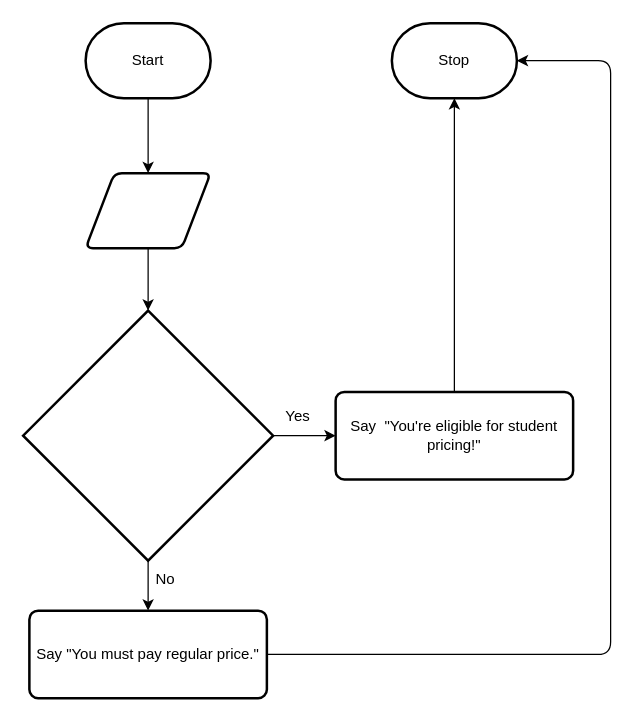
The diagram is 643 pixels wide and 720 high, and some of its shapes have lost their labels. The shapes that lost their labels are listed below. From the top down, each one's centre as x and y in pixels, then its label:
At point 147,210: "Get age and day info".
At point 147,435: "If the age is between 12 and 21 and the day is either Tuesday or Thursday".
